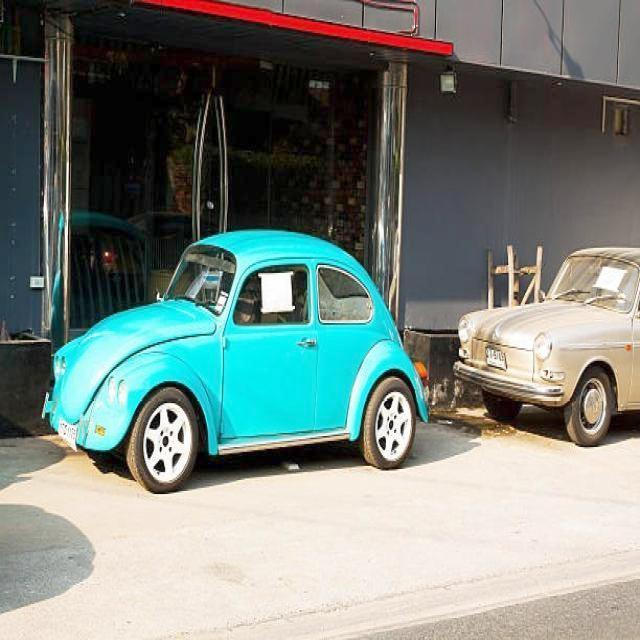car: (43, 232, 429, 477), (458, 248, 640, 443)
